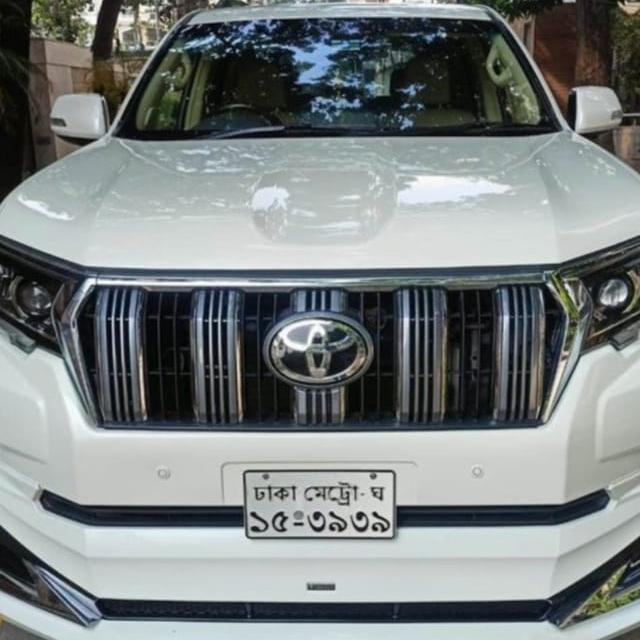Number-Plate: (243, 472, 395, 540)
